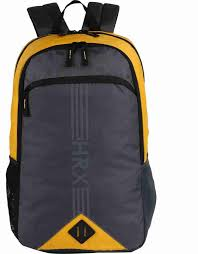backpack: (5, 0, 156, 253)
